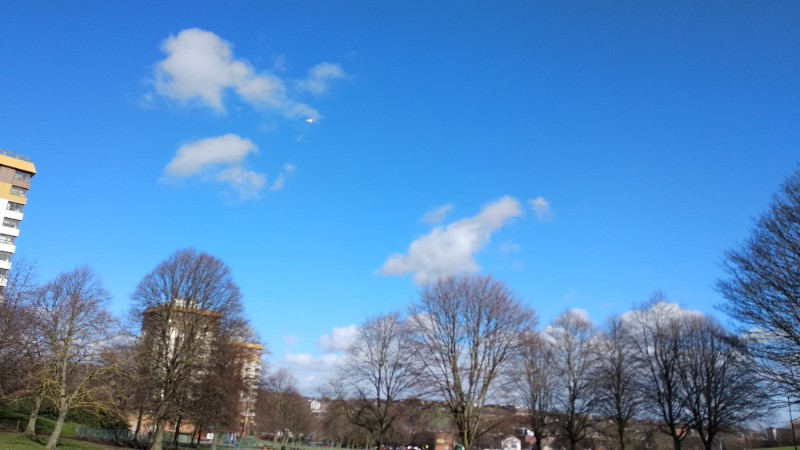drone: (304, 115, 314, 125)
